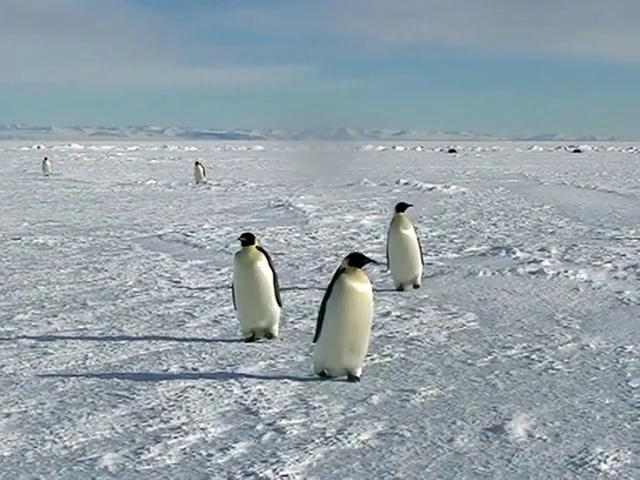animal: (386, 202, 423, 290)
